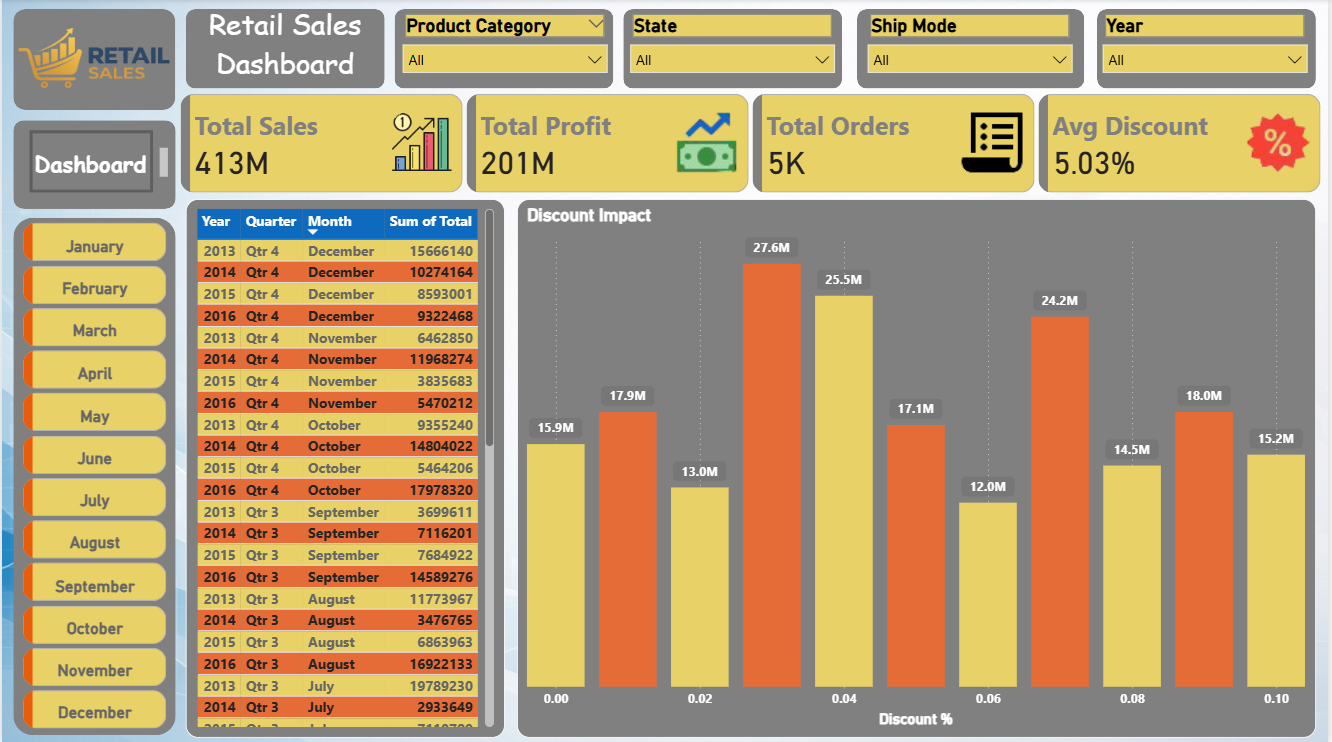

This screenshot's page, from the dashboard's own definition file:
{"tool":"powerbi","page":{"name":"Dashboard","canvas":[1280,720],"ordinal":0},"visuals":[{"type":"shape","box":[10.9,117,156.8,107.4],"z":0},{"type":"shape","box":[484.4,439.1,428.1,271.7],"z":1000},{"type":"shape","box":[177,439.1,290.9,271.7],"z":2000},{"type":"shape","box":[177,192.1,462.4,236],"z":3000},{"type":"shape","box":[923.5,439.1,344.4,271.7],"z":4000},{"type":"shape","box":[1056.6,9.6,211.3,76.8],"z":5000},{"type":"cardVisual","title":"Total Sales","fields":{"Data":["Retail_Sales_Data.TotaL Sales","Retail_Sales_Data.Total Profit","Retail_Sales_Data.Total Orders","Retail_Sales_Data.Avg Discount"]},"box":[167.4,86.4,1112.9,105.7],"z":6000},{"type":"shape","box":[11,9.6,156.4,97.4],"z":7000},{"type":"image","box":[11,9.6,156.4,94.7],"z":8000},{"type":"shape","box":[10.9,235.3,156.8,475.3],"z":9000},{"type":"advancedSlicerVisual","fields":{"Values":["Custom_Calender.Dates.Variation.Date Hierarchy.Month"]},"box":[15.7,235.3,148.4,485],"z":10000},{"type":"shape","box":[177,9.6,192.1,76.8],"z":11000},{"type":"textbox","box":[189.4,0,167.4,86.4],"z":12000},{"type":"slicer","fields":{"Values":["Custom_Calender.Dates.Variation.Date Hierarchy.Year"]},"box":[1052.5,9.6,218.2,76.8],"z":13000},{"type":"shape","box":[378.7,9.6,211.3,76.8],"z":14000},{"type":"shape","box":[599.7,9.6,211.3,76.8],"z":15000},{"type":"shape","box":[824.7,9.6,219.6,76.8],"z":16000},{"type":"slicer","fields":{"Values":["Retail_Sales_Data.Ship Mode"]},"box":[825,9.6,218.2,78],"z":17000},{"type":"slicer","fields":{"Values":["Retail_Sales_Data.State"]},"box":[595.5,9.6,218.2,76.8],"z":18000},{"type":"slicer","fields":{"Values":["Retail_Sales_Data.Product Category"]},"box":[376,9.6,218.2,76.8],"z":19000},{"type":"shape","box":[654.5,190.7,616.1,237.4],"z":20000},{"type":"lineChart","title":"Sales Trend Over Time","fields":{"Category":["Custom_Calender.Dates.Variation.Date Hierarchy.Month"],"Y":["Sum(Retail_Sales_Data.Total)"]},"box":[654.5,192.1,613.4,247],"z":21000},{"type":"barChart","title":"Profit by Product Category","fields":{"Category":["Retail_Sales_Data.Product Category"],"Y":["Sum(Retail_Sales_Data.Total Profit Per Order)"]},"box":[189.4,192.1,450.1,259.3],"z":22000},{"type":"donutChart","title":"Profit By State","fields":{"Category":["Retail_Sales_Data.State"],"Y":["Sum(Retail_Sales_Data.Total Profit Per Order)"]},"box":[934.5,439.1,336.2,281.3],"z":23000},{"type":"barChart","title":"Ship Mode Analysis","fields":{"Category":["Retail_Sales_Data.Ship Mode"],"Y":["CountNonNull(Retail_Sales_Data.Customer Name)"]},"box":[491.3,451.5,421.3,269],"z":24000},{"type":"columnChart","title":"Sales by Customer Type","fields":{"Category":["Retail_Sales_Data.Customer Type"],"Y":["Sum(Retail_Sales_Data.Total)"]},"box":[177,451.5,307.4,269],"z":25000},{"type":"actionButton","box":[26.5,126.7,126.7,89.3],"z":26000},{"type":"textbox","box":[35,138.7,111,63.9],"z":27000}]}

Visuals, with their boxes in screenshot pixels (x1, y1, x2, y2), scaled from the page's 1280x720 canvas onto the 1332x742 screenshot:
shape: 11,121,175,231
shape: 504,453,950,733
shape: 184,453,487,733
shape: 184,198,665,441
shape: 961,453,1319,733
shape: 1100,10,1319,89
"Total Sales" cardVisual: 174,89,1331,198
shape: 11,10,174,110
image: 11,10,174,107
shape: 11,242,175,732
advancedSlicerVisual - Custom_Calender.Dates.Variation.Date Hierarchy.Month: 16,242,171,741
shape: 184,10,384,89
textbox: 197,0,371,89
slicer - Custom_Calender.Dates.Variation.Date Hierarchy.Year: 1095,10,1322,89
shape: 394,10,614,89
shape: 624,10,844,89
shape: 858,10,1087,89
slicer - Retail_Sales_Data.Ship Mode: 859,10,1086,90
slicer - Retail_Sales_Data.State: 620,10,847,89
slicer - Retail_Sales_Data.Product Category: 391,10,618,89
shape: 681,197,1322,441
"Sales Trend Over Time" lineChart: 681,198,1319,453
"Profit by Product Category" barChart: 197,198,665,465
"Profit By State" donutChart: 972,453,1322,741
"Ship Mode Analysis" barChart: 511,465,950,741
"Sales by Customer Type" columnChart: 184,465,504,741
actionButton: 28,131,159,223
textbox: 36,143,152,209
